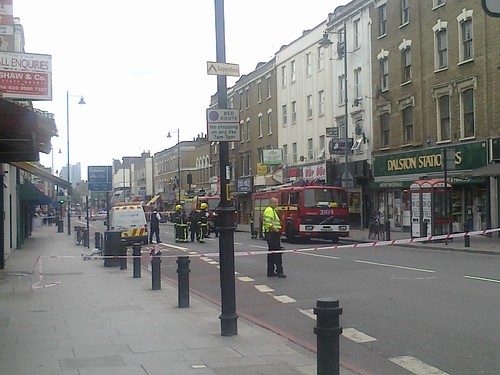building: (380, 1, 500, 237), (274, 14, 371, 224), (220, 62, 278, 232), (150, 133, 212, 222)
firetruck: (246, 186, 356, 244)
sign: (202, 104, 245, 144)
sky: (46, 1, 292, 152)
street: (1, 230, 487, 375)
